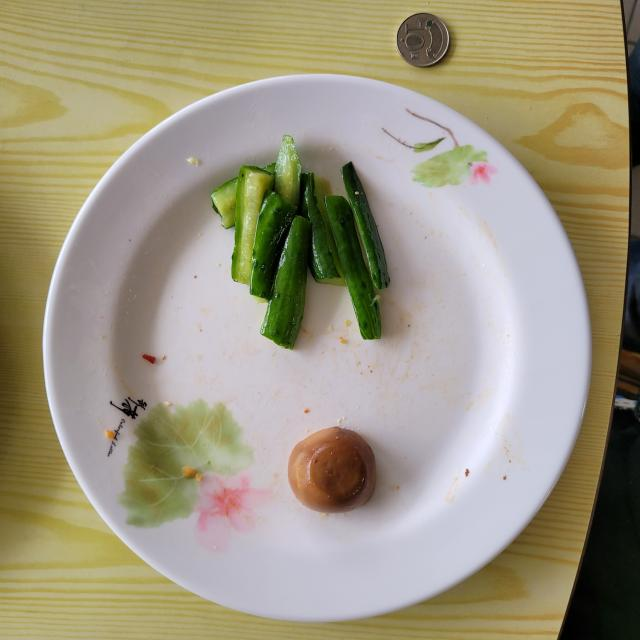coin: (396, 12, 450, 68)
cucumber: (211, 135, 390, 349)
soy egg: (288, 426, 376, 512)
